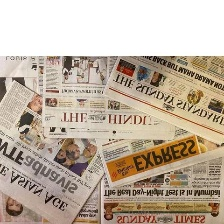news_paper: (0, 80, 106, 224), (35, 53, 171, 144), (98, 54, 223, 147), (95, 120, 224, 191), (97, 152, 224, 223), (0, 52, 99, 138)
